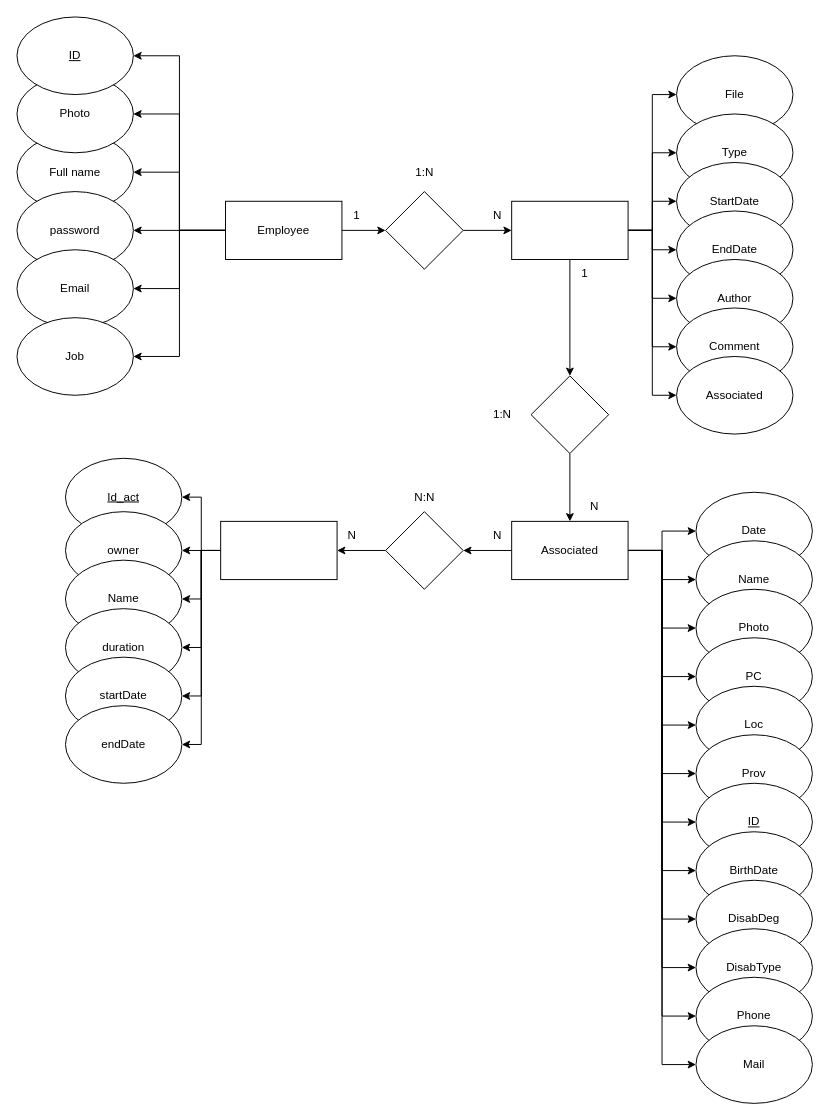
Some shapes in this 829 by 1120 pixel diagram are drawn without their labels. The shapes that lost their labels are listed below. From the top down, each one's box as (x1, y1, x2, y2) in pixels, then its label:
(385, 191, 463, 269): Realiza
(511, 200, 628, 259): Session
(530, 375, 609, 453): Gestiona
(220, 520, 337, 580): Activities
(385, 511, 463, 589): Realizan
